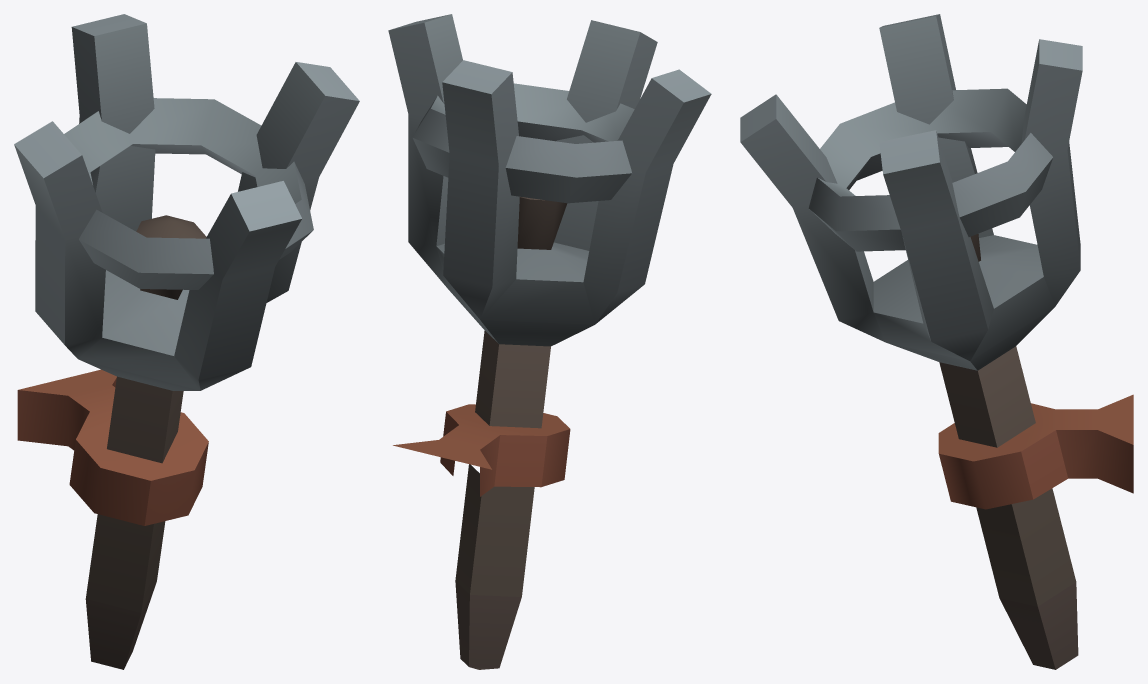
File: torch_mounted.glb
3 views of the same model, side by side, from view 1: azimuth 30°, elevation 25°; view 2: azimuth 150°, elevation 25°; view 3: azimuth 270°, elevation 25° (orthographic). The views are drawn at different scales.
Visible parts, largest first — view 1: torch_mounted; view 2: torch_mounted; view 3: torch_mounted.
Boxes of the visible parts, box(x1,y1,x2,y2) form: torch_mounted: box(14, 14, 359, 669); torch_mounted: box(388, 14, 711, 669); torch_mounted: box(740, 14, 1133, 669).
Bounding box in the file's own units: 0.5503 × 1.06 × 0.6159.
